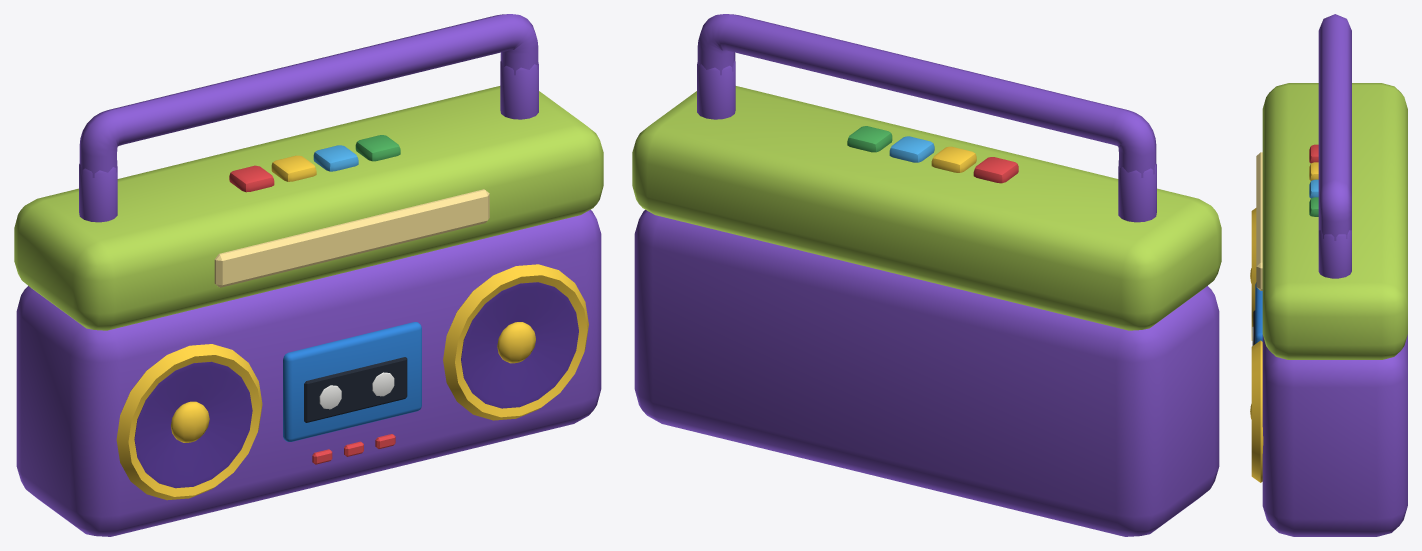
Rendered from som_boombox.glb.
The picture shows the model from 3 angles, left to right: view 1: azimuth 30°, elevation 25°; view 2: azimuth 150°, elevation 25°; view 3: azimuth 270°, elevation 25°; orthographic projection. The views are drawn at different scales.
Parts seen in each view (by area): view 1: som_boombox; view 2: som_boombox; view 3: som_boombox.
Part boxes in pixels (x1,y1,x2,y2): som_boombox: (14, 14, 603, 536); som_boombox: (632, 14, 1221, 536); som_boombox: (1250, 14, 1407, 536).
Bounding box in the file's own units: 0.5 × 0.361 × 0.1521.
Materials: 1 (1 with a texture image).
